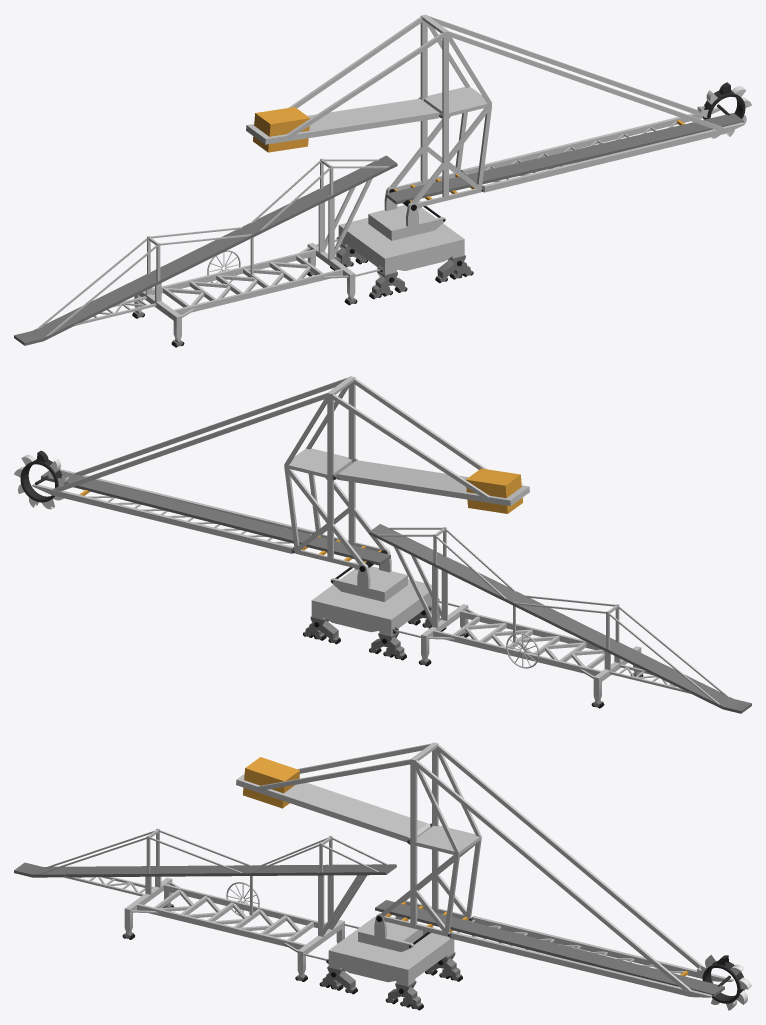
File: dushangang1207.fbx
3 views of the same model, one above another, from view 1: azimuth 30°, elevation 25°; view 2: azimuth 150°, elevation 25°; view 3: azimuth 330°, elevation 25° (orthographic).
Parts seen in each view (by area): view 1: budong, zhijia, pidai, zhuanzhou; view 2: budong, zhijia, pidai, zhuanzhou, 管道_1; view 3: zhijia, budong, pidai, zhuanzhou, 管道_1.
Boxes of the visible parts, bbox=[...] form: budong: bbox=[14, 155, 473, 347]; zhijia: bbox=[246, 14, 744, 207]; pidai: bbox=[385, 113, 743, 204]; zhuanzhou: bbox=[368, 186, 445, 240]; budong: bbox=[303, 524, 751, 713]; zhijia: bbox=[32, 376, 529, 568]; pidai: bbox=[41, 470, 390, 565]; zhuanzhou: bbox=[330, 547, 407, 601]; 管道_1: bbox=[20, 459, 62, 502]; zhijia: bbox=[236, 742, 733, 997]; budong: bbox=[14, 828, 462, 1010]; pidai: bbox=[375, 900, 724, 996]; zhuanzhou: bbox=[358, 901, 434, 952]; 管道_1: bbox=[702, 961, 744, 1003].
Size of the model in its own units: 1098 by 345 by 126.
